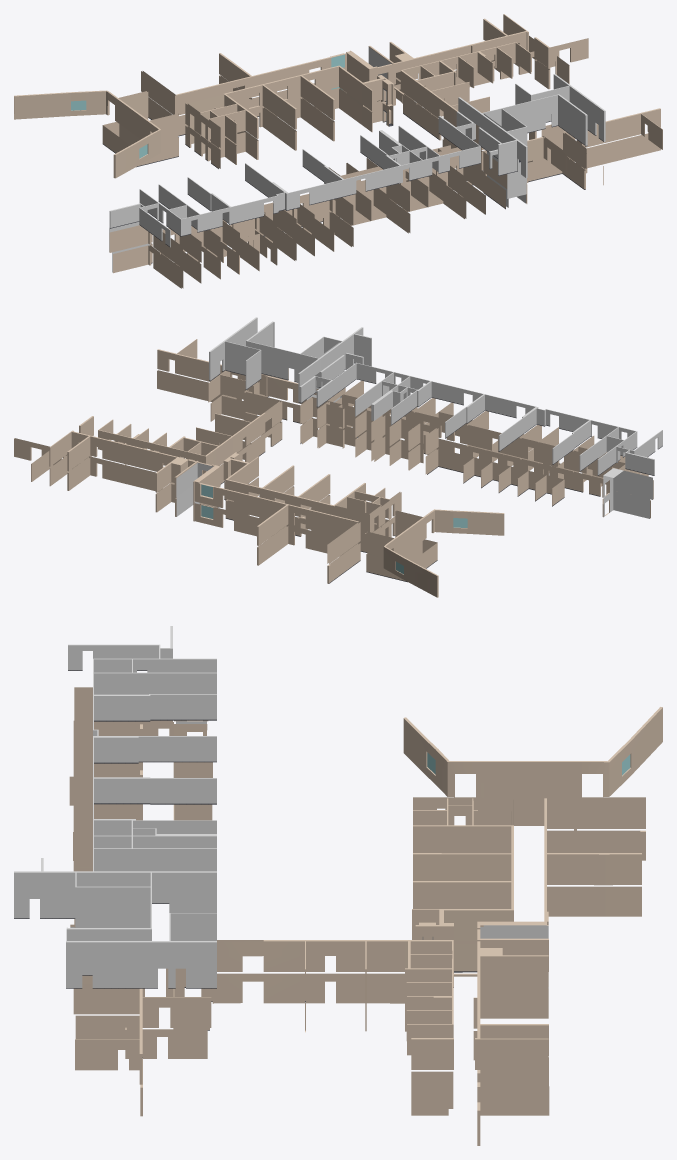
Rendered from PoprawioneŚciany.fbx.
3 views of the same model, one above another, from view 1: azimuth 30°, elevation 25°; view 2: azimuth 150°, elevation 25°; view 3: azimuth 270°, elevation 25° (orthographic). The views are drawn at different scales.
Visible parts, largest first — view 1: Walls2.001, Walls1.001, Walls3.001; view 2: Walls2.001, Walls1.001, Walls3.001; view 3: Walls2.001, Walls3.001, Walls1.001.
Boxes of the visible parts, left/top/right/bottom form: Walls2.001: left=14, top=14, right=662, bottom=267; Walls1.001: left=102, top=36, right=660, bottom=288; Walls3.001: left=109, top=74, right=605, bottom=247; Walls2.001: left=49, top=339, right=653, bottom=597; Walls1.001: left=14, top=370, right=650, bottom=583; Walls3.001: left=209, top=317, right=662, bottom=475; Walls2.001: left=70, top=687, right=662, bottom=1084; Walls3.001: left=14, top=626, right=216, bottom=988; Walls1.001: left=69, top=720, right=645, bottom=1145.
Size of the model in its own units: 9126 by 1158 by 5892.
Materials: 6 (2 with a texture image).
